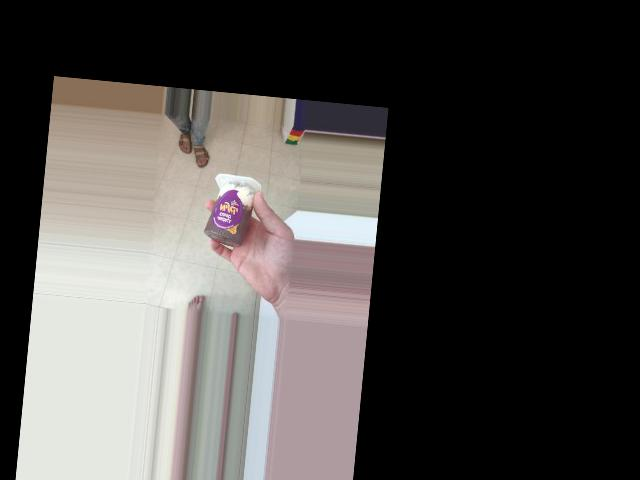milky: (207, 171, 258, 259)
